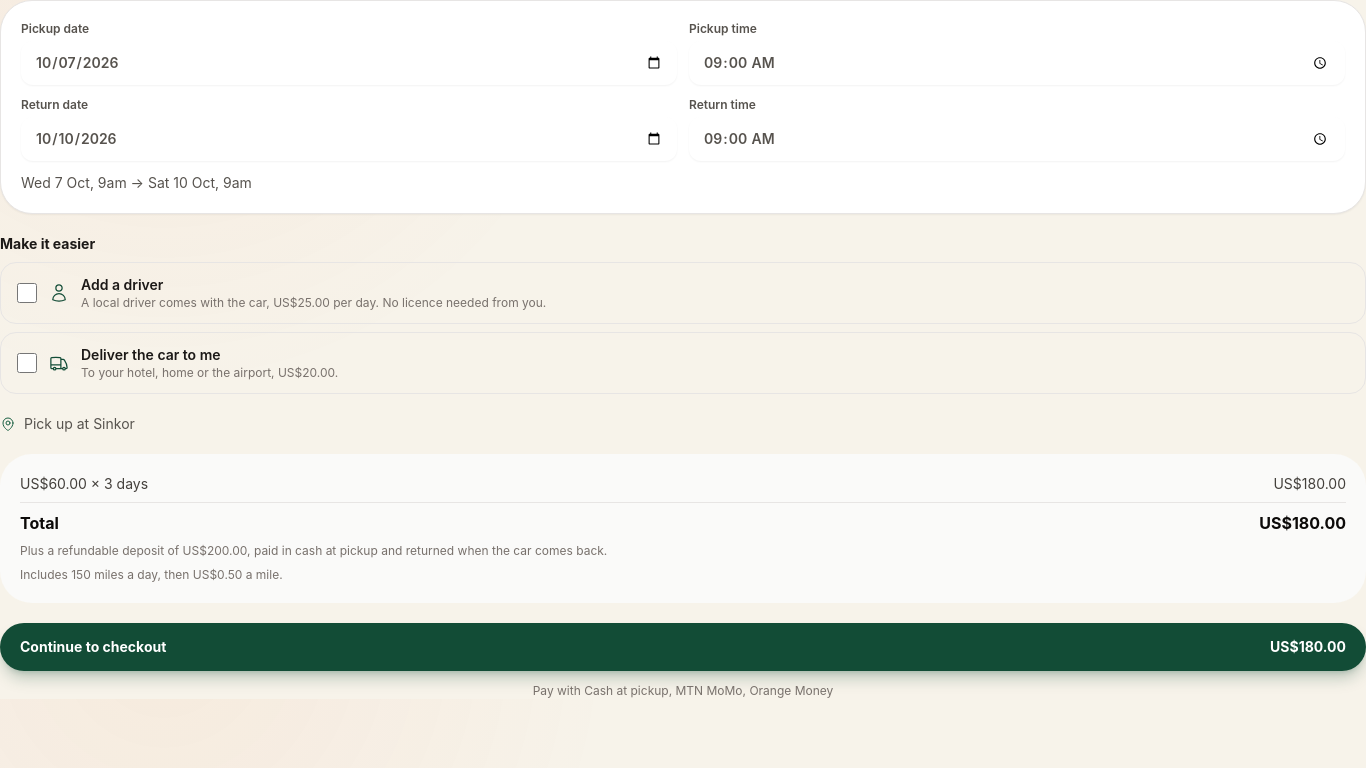
Test: RentCar › adds up the trip line by line, with the deposit and mileage spelled out
Expected: the text "Pay with Cash at pickup, MTN MoMo, Orange Money" is shown, [533,683,833,698]
Expected: the text "US$60.00 × 3 days" is shown, [20,474,148,494]
Click the checkbox labelled "Add a driver": (27, 293) [17,283,37,303]
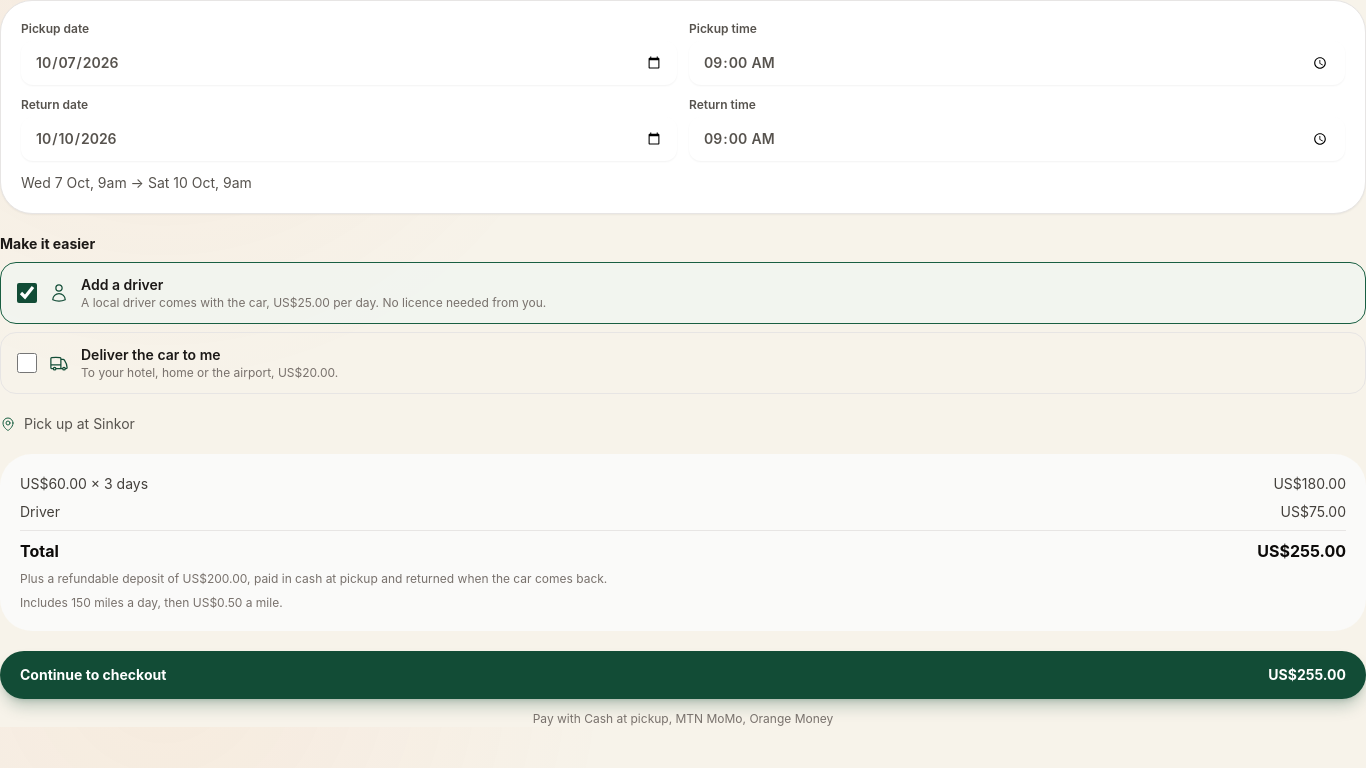
Click the checkbox labelled "Deliver the car to me": (27, 363) [17,353,37,373]
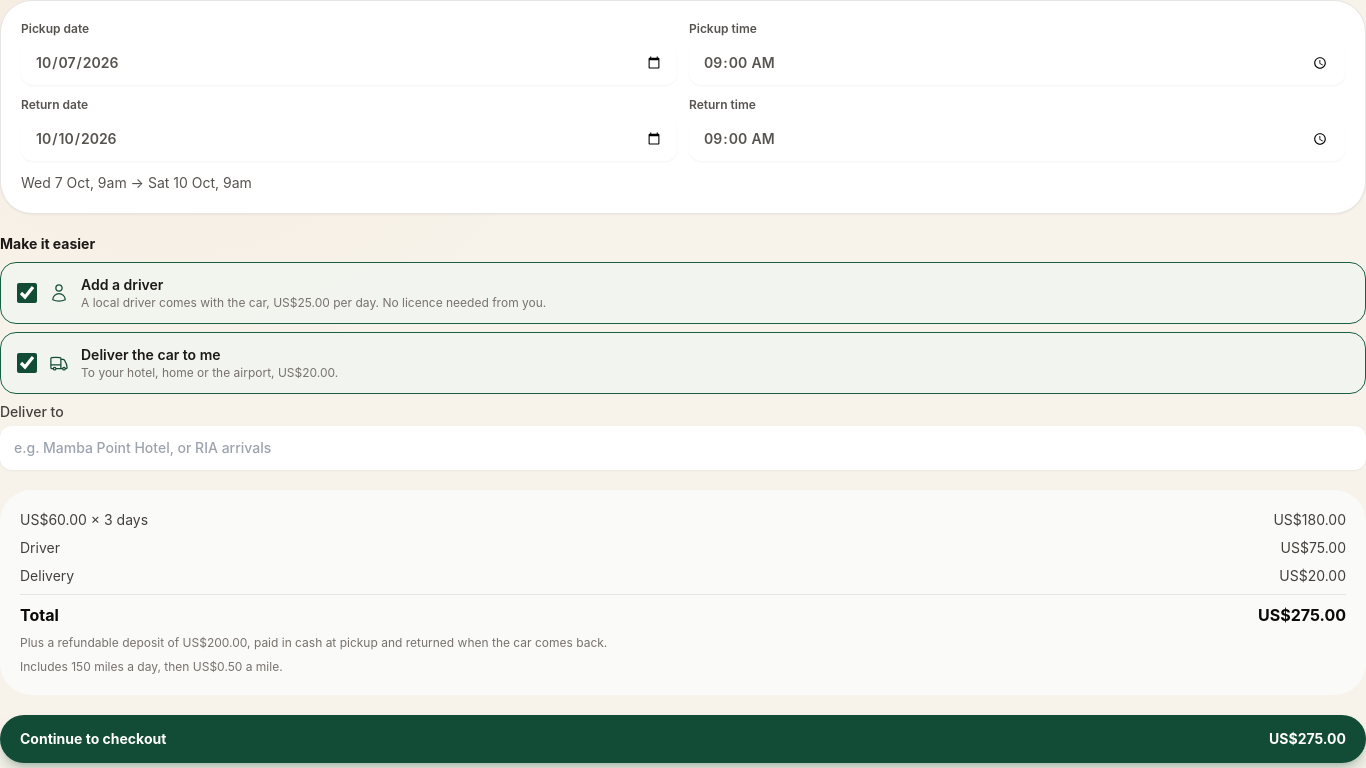
Now the text "Driver" is shown, box [20,538,60,558]
Now the text "US$75.00" is shown, box [1280,538,1346,558]
Now the text "US$275.00" in the row of "Total" is shown, box [1258,605,1346,625]
